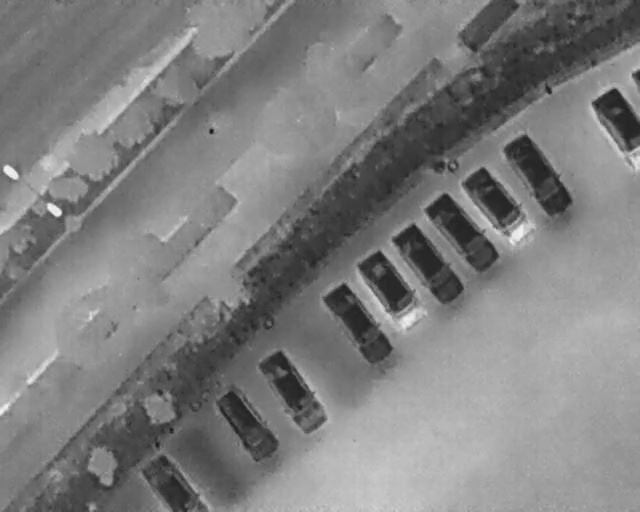Car: (418, 184, 507, 282), (454, 159, 542, 255), (251, 342, 336, 441), (495, 127, 580, 224), (386, 217, 472, 312), (349, 243, 434, 339), (316, 277, 401, 372), (208, 378, 287, 469), (138, 452, 215, 510), (590, 84, 639, 173)
